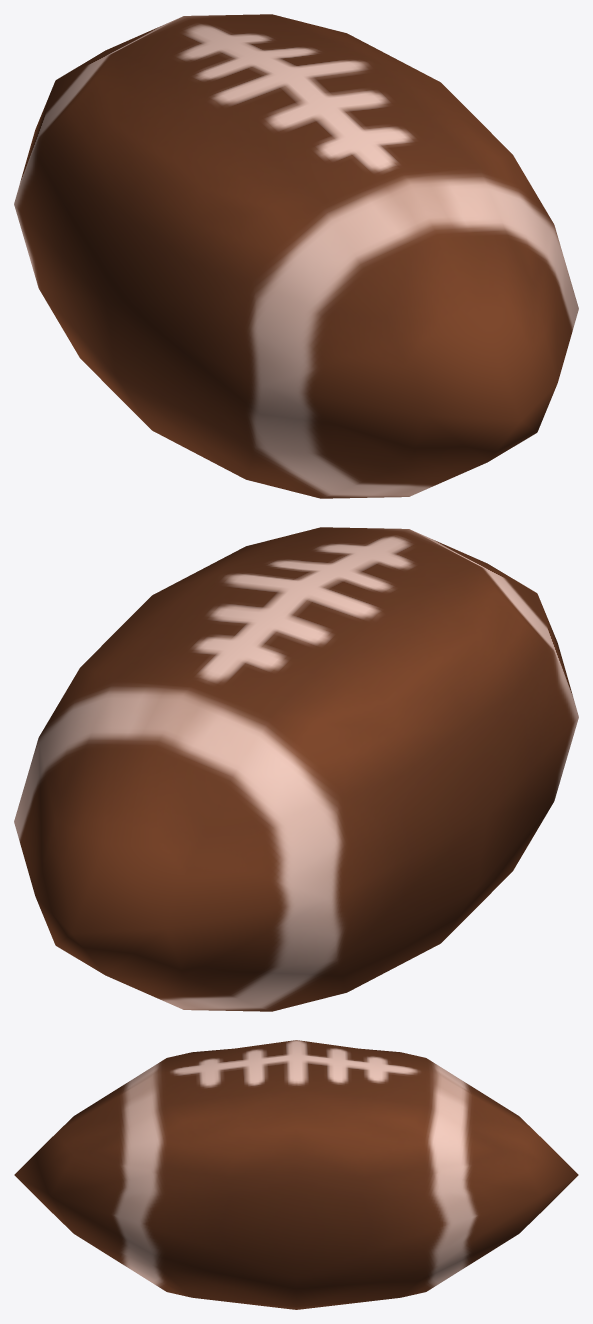
File: Ball.fbx
The picture shows the model from 3 angles, top to bottom: view 1: azimuth 30°, elevation 25°; view 2: azimuth 150°, elevation 25°; view 3: azimuth 270°, elevation 25°; orthographic projection. The views are drawn at different scales.
Parts seen in each view (by area): view 1: Ball; view 2: Ball; view 3: Ball.
Boxes of the visible parts, x1,y1,x2,y2 form: Ball: (14, 14, 578, 498); Ball: (14, 527, 578, 1011); Ball: (14, 1040, 578, 1309).
Size of the model in its own units: 11.49 by 10.67 by 23.44.
